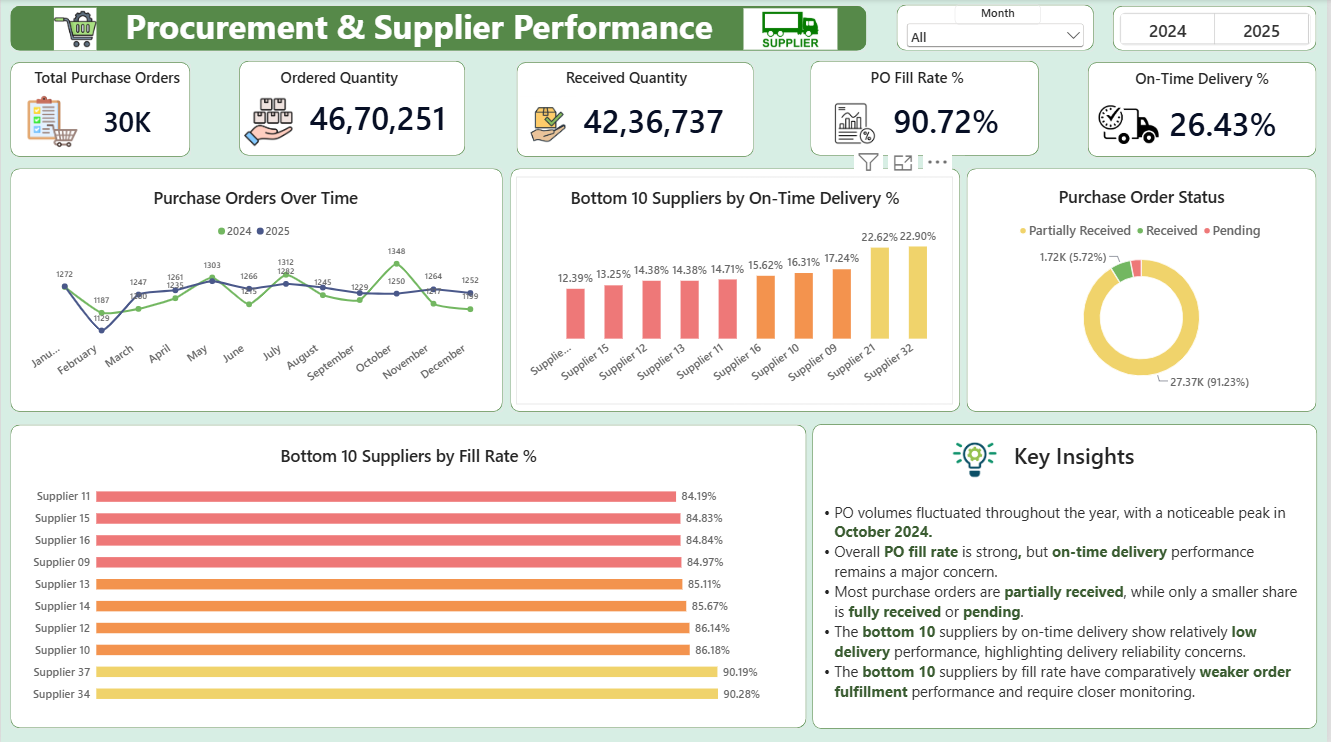

Layout of this report page (visuals, bound fields, positions):
{"tool":"powerbi","page":{"name":"Procurement & Supplier","canvas":[1920,1080],"ordinal":1},"visuals":[{"type":"shape","title":"Total Units Sold","box":[1295.7,7.2,287.7,68.8],"z":0,"group":"g1"},{"type":"shape","box":[12.7,9,1241.4,67],"z":0},{"type":"shape","title":"Total Units Sold","box":[1608.8,9,296.8,67],"z":0,"group":"g4"},{"type":"shape","title":"Total Units Sold","box":[1397.1,244.3,508.5,354.7],"z":0,"group":"g10"},{"type":"textbox","box":[162.9,5.4,884.9,76],"z":1000},{"type":"shape","title":"Total Units Sold","box":[1174.5,615.3,731.1,441.6],"z":1000,"group":"g11"},{"type":"group","id":"g1","title":"Group 1","box":[1295.7,7.2,287.7,68.8],"z":2000,"group":"g3"},{"type":"group","id":"g2","title":"Group 1","box":[12.7,244.3,714.8,354.7],"z":2000},{"type":"shape","title":"Total Units Sold","box":[1171.3,88.7,333,139.3],"z":3000,"group":"g6"},{"type":"shape","title":"Total Units Sold","box":[12.7,244.3,714.8,354.7],"z":3000,"group":"g2"},{"type":"shape","title":"Total Units Sold","box":[735.6,244.3,653.3,354.7],"z":3000},{"type":"textbox","box":[1440.5,638.8,225.9,56.1],"z":3000,"group":"g11"},{"type":"group","id":"g3","title":"Group 2","box":[1295.7,7.2,287.7,68.8],"z":4000},{"type":"shape","title":"Total Units Sold","box":[745.3,90.5,345.6,139.3],"z":4000,"group":"g7"},{"type":"shape","title":"Total Units Sold","box":[12.7,615.3,1154.6,441.6],"z":4000},{"type":"textbox","box":[1174.5,727.5,718.3,295],"z":4000,"group":"g11"},{"type":"group","id":"g4","title":"Group 3","box":[1608.8,9,296.8,67],"z":5000},{"type":"shape","title":"Total Units Sold","box":[12.7,90.5,262.4,139.3],"z":5000,"group":"g9"},{"type":"shape","title":"Total Units Sold","box":[343.4,88.7,329.4,139.3],"z":6000,"group":"g8"},{"type":"group","id":"g5","title":"Group 5","box":[1572.6,90.5,333,139.3],"z":6000},{"type":"group","id":"g6","title":"Group 6","box":[1171.3,88.7,333,139.3],"z":7000},{"type":"cardVisual","title":"Total Units Sold","fields":{"Data":["DAX.Total_Purchase_Orders"]},"box":[115.9,137.6,117.6,76],"z":7000,"group":"g9"},{"type":"group","id":"g7","title":"Group 7","box":[741.1,90.5,361.9,139.3],"z":8000},{"type":"image","box":[32.6,139.4,83.2,76],"z":8000,"group":"g9"},{"type":"lineChart","title":"Purchase Orders Over Time","fields":{"Category":["Date.Month Name"],"Series":["Date.Year"],"Y":["CountNonNull(Purchase_Orders.PO_ID)"]},"box":[20.4,257,696.9,329.4],"z":8000,"group":"g2"},{"type":"group","id":"g8","title":"Group 8","box":[343.4,88.7,329.4,139.3],"z":9000},{"type":"textbox","box":[32.6,97.7,242.5,38],"z":9000,"group":"g9"},{"type":"cardVisual","fields":{"Data":["DAX.Received Quantity"]},"box":[827,139.4,250.6,72.4],"z":10000,"group":"g7"},{"type":"columnChart","title":"Bottom 10 Suppliers by On-Time Delivery %","fields":{"Category":["Suppliers.Supplier_Name"],"Y":["DAX.On Time Delivery %"]},"box":[745.1,257,634.3,329.4],"z":10000},{"type":"group","id":"g9","title":"Group 9","box":[12.7,90.5,262.4,139.3],"z":11000},{"type":"cardVisual","fields":{"Data":["DAX.Ordered Quantity"]},"box":[430.3,132.1,229.8,77.8],"z":11000,"group":"g8"},{"type":"image","box":[39.8,12.7,135.7,61.5],"z":12000},{"type":"cardVisual","fields":{"Data":["DAX.PO Fill Rate%"]},"box":[1276.9,137.6,209.1,74.2],"z":12000,"group":"g6"},{"type":"image","box":[1074.9,12.7,135.7,61.5],"z":13000},{"type":"textbox","box":[379.6,97.7,219,36.2],"z":13000,"group":"g8"},{"type":"donutChart","title":"Purchase Order Status","fields":{"Category":["Purchase_Orders.Status"],"Y":["CountNonNull(Purchase_Orders.PO_ID)"]},"box":[1405.8,255.9,489.7,331.4],"z":13000,"group":"g10"},{"type":"image","box":[343.4,143,86.9,70.6],"z":14000,"group":"g8"},{"type":"group","id":"g10","title":"Group 4","box":[1397.1,244.3,508.5,354.7],"z":14000},{"type":"textbox","box":[812.6,97.1,185.5,36.2],"z":15000,"group":"g7"},{"type":"slicer","fields":{"Values":["Date.Month Name"]},"box":[1306.6,30.7,266,45.2],"z":16000,"group":"g3"},{"type":"textbox","box":[1203.8,97.7,245.7,36.2],"z":16000,"group":"g6"},{"type":"group","id":"g11","title":"Group 11","box":[1174.5,615.3,731.1,441.6],"z":16000},{"type":"image","box":[741.1,140.6,100.6,74.2],"z":17000,"group":"g7"},{"type":"shape","title":"Total Units Sold","box":[1572.6,90.5,333,139.3],"z":18000,"group":"g5"},{"type":"image","box":[1371.8,622.5,74.9,88.7],"z":18000,"group":"g11"},{"type":"cardVisual","fields":{"Data":["DAX.On Time Delivery %"]},"box":[1676.1,143,211.2,74.2],"z":19000,"group":"g5"},{"type":"barChart","title":"Bottom 10 Suppliers by Fill Rate %","fields":{"Category":["Suppliers.Supplier_Name"],"Y":["DAX.PO Fill Rate%"]},"box":[29,629.8,1122,412.6],"z":19000},{"type":"textbox","box":[1380.8,7.2,124.9,30.8],"z":20000,"group":"g3"},{"type":"textbox","box":[1615.2,99.5,245.7,36.2],"z":20000,"group":"g5"},{"type":"advancedSlicerVisual","fields":{"Values":["Date.Year"]},"box":[1619.7,19.9,276.9,47.1],"z":21000,"group":"g4"},{"type":"image","box":[1177.4,150.2,119.8,59.7],"z":22000,"group":"g6"},{"type":"image","box":[1588.8,133.9,87.3,95.9],"z":23000,"group":"g5"}]}

Visuals, with their boxes in screenshot pixels (x1, y1, x2, y2), scaled from the page's 1920x1080 canvas onto the 1331x742 screenshot:
"Total Units Sold" shape: [898, 5, 1098, 52]
shape: [9, 6, 869, 52]
"Total Units Sold" shape: [1115, 6, 1321, 52]
"Total Units Sold" shape: [969, 168, 1321, 412]
textbox: [113, 4, 726, 56]
"Total Units Sold" shape: [814, 423, 1321, 726]
"Group 1" group: [898, 5, 1098, 52]
"Group 1" group: [9, 168, 504, 412]
"Total Units Sold" shape: [812, 61, 1043, 157]
"Total Units Sold" shape: [9, 168, 504, 412]
"Total Units Sold" shape: [510, 168, 963, 412]
textbox: [999, 439, 1155, 477]
"Group 2" group: [898, 5, 1098, 52]
"Total Units Sold" shape: [517, 62, 756, 158]
"Total Units Sold" shape: [9, 423, 809, 726]
textbox: [814, 500, 1312, 702]
"Group 3" group: [1115, 6, 1321, 52]
"Total Units Sold" shape: [9, 62, 191, 158]
"Total Units Sold" shape: [238, 61, 466, 157]
"Group 5" group: [1090, 62, 1321, 158]
"Group 6" group: [812, 61, 1043, 157]
"Total Units Sold" cardVisual: [80, 95, 162, 147]
"Group 7" group: [514, 62, 765, 158]
image: [23, 96, 80, 148]
"Purchase Orders Over Time" lineChart: [14, 177, 497, 403]
"Group 8" group: [238, 61, 466, 157]
textbox: [23, 67, 191, 93]
cardVisual - DAX.Received Quantity: [573, 96, 747, 146]
"Bottom 10 Suppliers by On-Time Delivery %" columnChart: [517, 177, 956, 403]
"Group 9" group: [9, 62, 191, 158]
cardVisual - DAX.Ordered Quantity: [298, 91, 458, 144]
image: [28, 9, 122, 51]
cardVisual - DAX.PO Fill Rate%: [885, 95, 1030, 146]
image: [745, 9, 839, 51]
textbox: [263, 67, 415, 92]
"Purchase Order Status" donutChart: [975, 176, 1314, 403]
image: [238, 98, 298, 147]
"Group 4" group: [969, 168, 1321, 412]
textbox: [563, 67, 692, 92]
slicer - Date.Month Name: [906, 21, 1090, 52]
textbox: [835, 67, 1005, 92]
"Group 11" group: [814, 423, 1321, 726]
image: [514, 97, 583, 148]
"Total Units Sold" shape: [1090, 62, 1321, 158]
image: [951, 428, 1003, 489]
cardVisual - DAX.On Time Delivery %: [1162, 98, 1308, 149]
"Bottom 10 Suppliers by Fill Rate %" barChart: [20, 433, 798, 716]
textbox: [957, 5, 1044, 26]
textbox: [1120, 68, 1290, 93]
advancedSlicerVisual - Date.Year: [1123, 14, 1315, 46]
image: [816, 103, 899, 144]
image: [1101, 92, 1162, 158]
